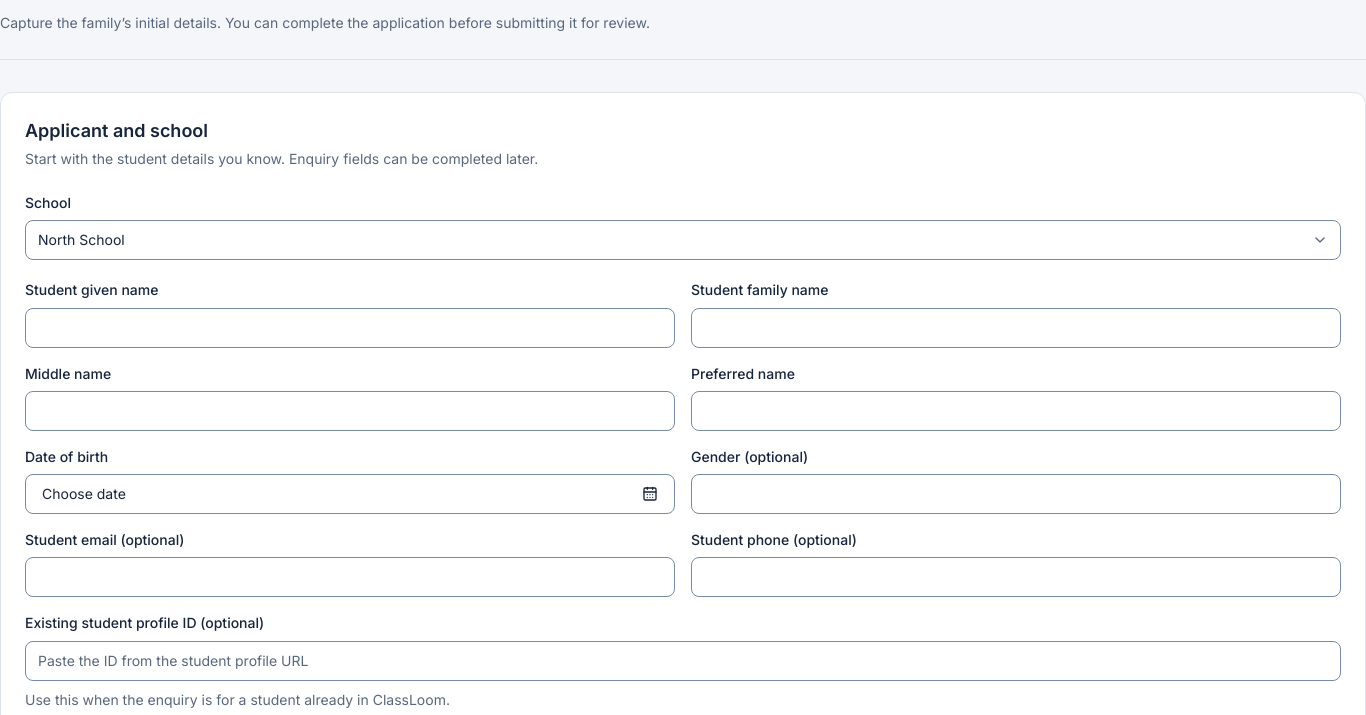
Test: new admission form › keeps the form open and shows the API validation detail when saving fails
Step 1. Type "Asha" into the field labelled "Student given name" → [350, 328], box [25,308,675,348]
(page scrolled)
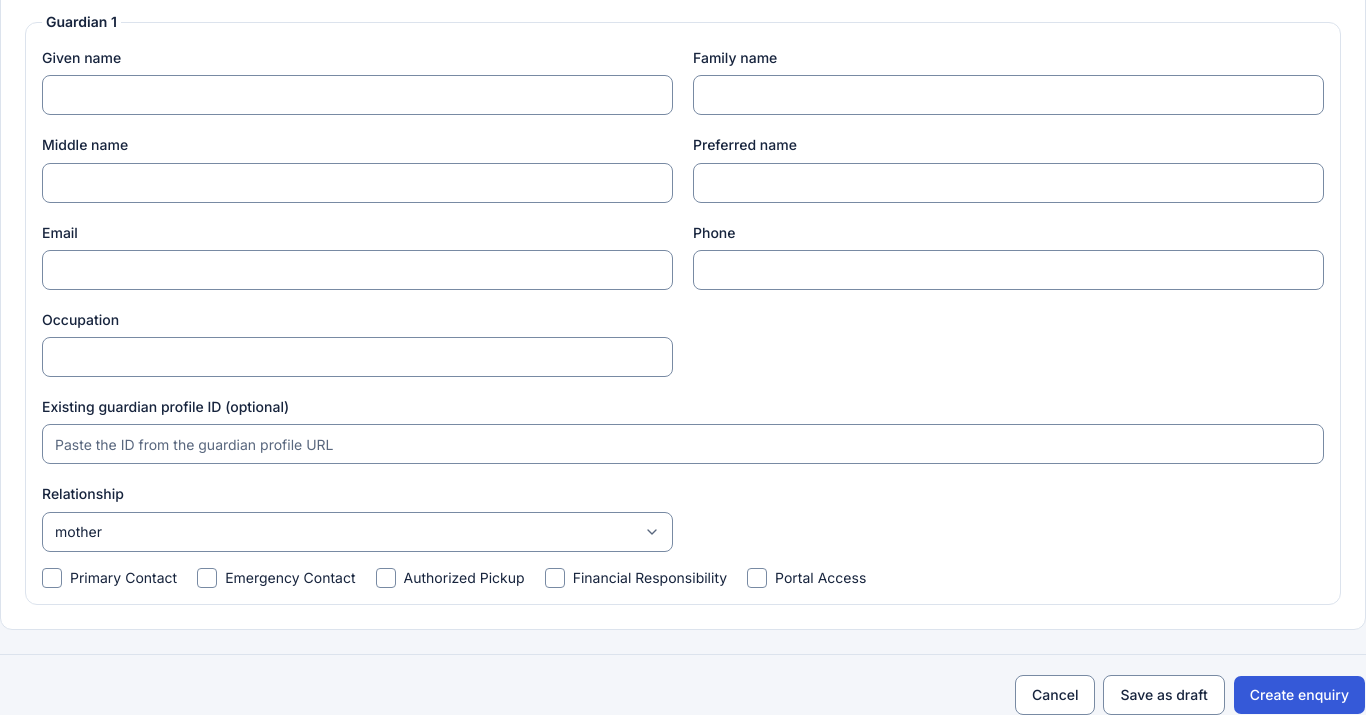
Step 2. Click the button "Create enquiry" → [1299, 694], box [1233,674,1365,714]
(page scrolled)
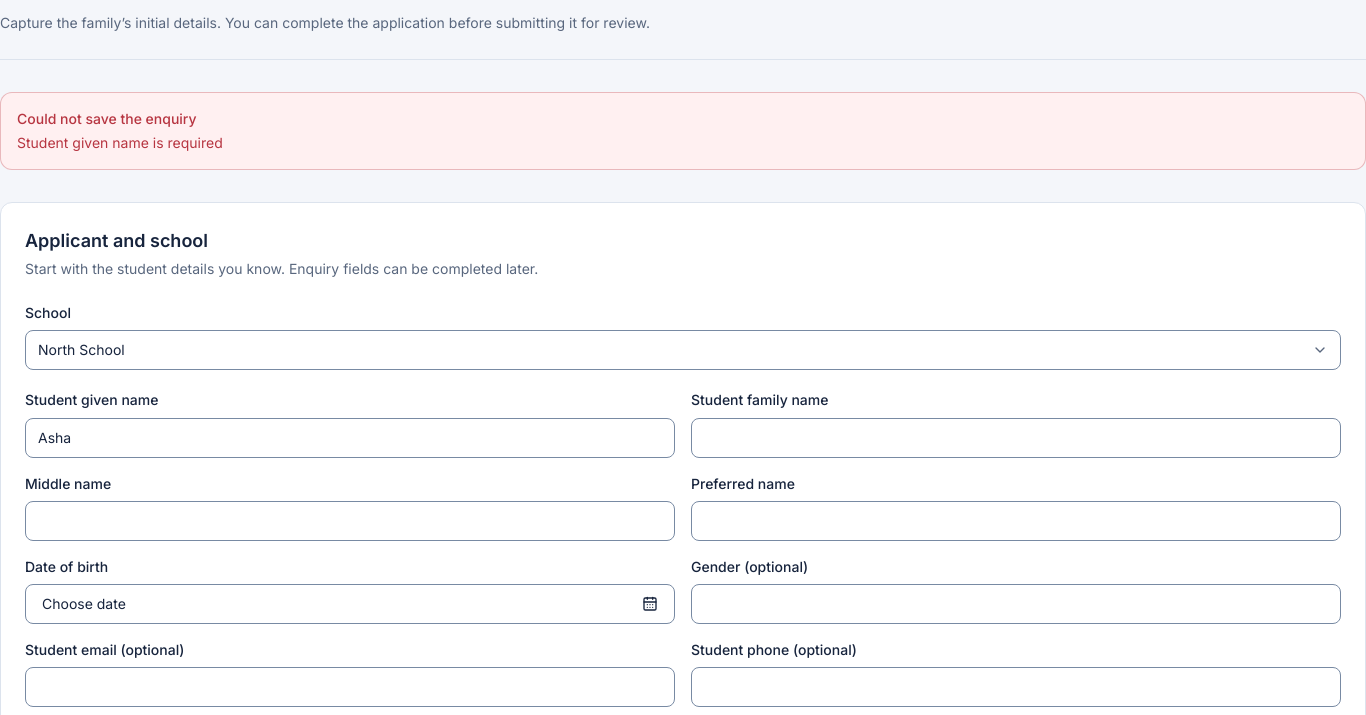
Expected: the text "Student given name is required" is shown, [17,134,223,151]
